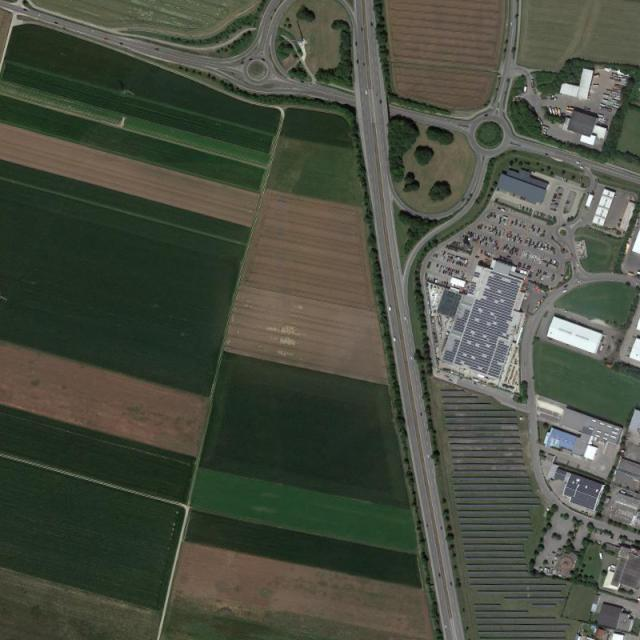vehicle: (552, 108, 556, 116), (523, 86, 527, 94), (549, 107, 553, 114), (555, 107, 558, 115)
